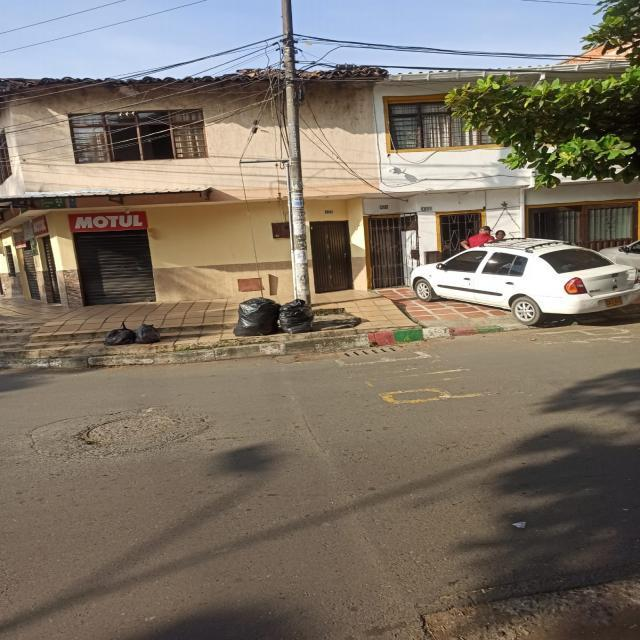Garbage_Bag: (232, 294, 280, 336), (278, 300, 315, 336), (100, 322, 136, 346), (132, 322, 164, 344)
